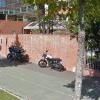Motorcycle: (35, 48, 69, 73)
